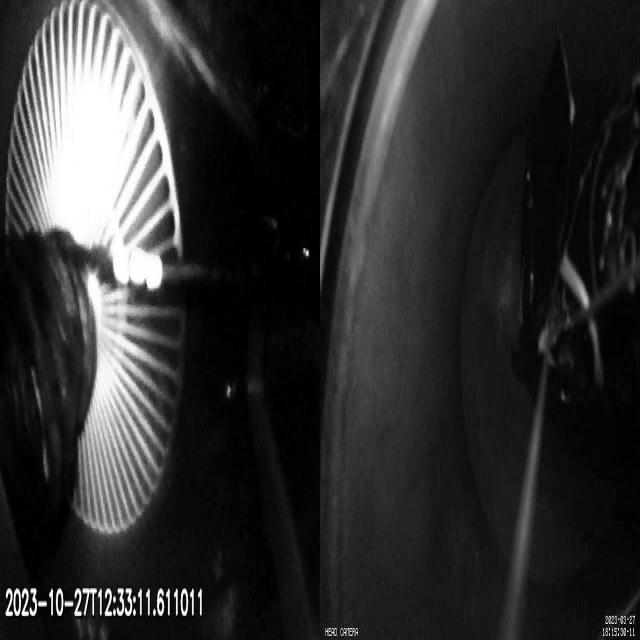white-dots: (111, 246, 164, 293)
